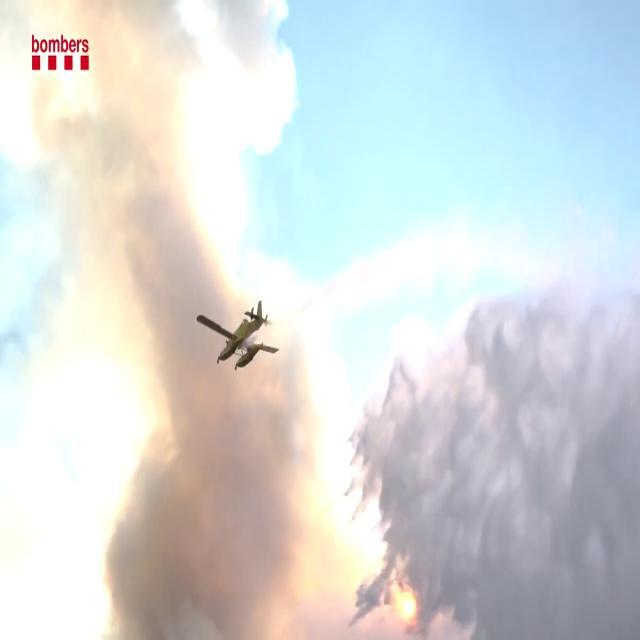Smoke: (26, 2, 328, 634), (356, 178, 640, 632)
